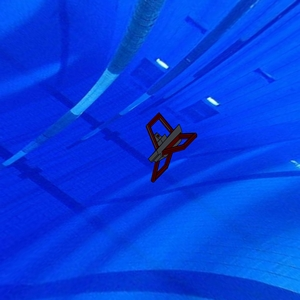submarine: (141, 111, 200, 189)
